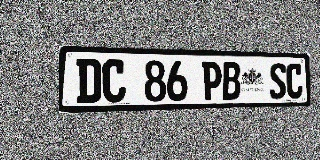6: (167, 61, 188, 101)
8: (144, 60, 166, 102)
B: (222, 62, 241, 100)
C: (102, 59, 126, 103), (286, 63, 303, 99)
D: (76, 59, 101, 103)
P: (202, 61, 221, 100)
S: (269, 63, 286, 99)
